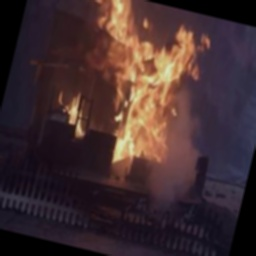fire: (36, 0, 222, 184)
